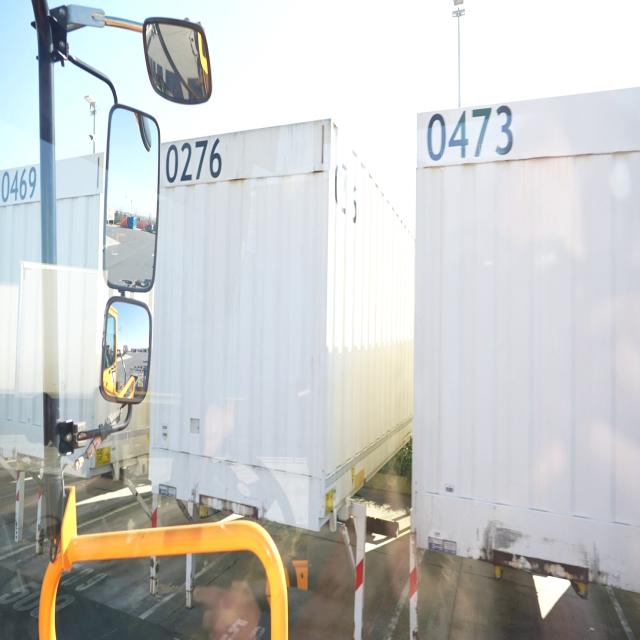Code: (422, 103, 518, 171), (161, 136, 226, 188), (0, 165, 39, 209)
